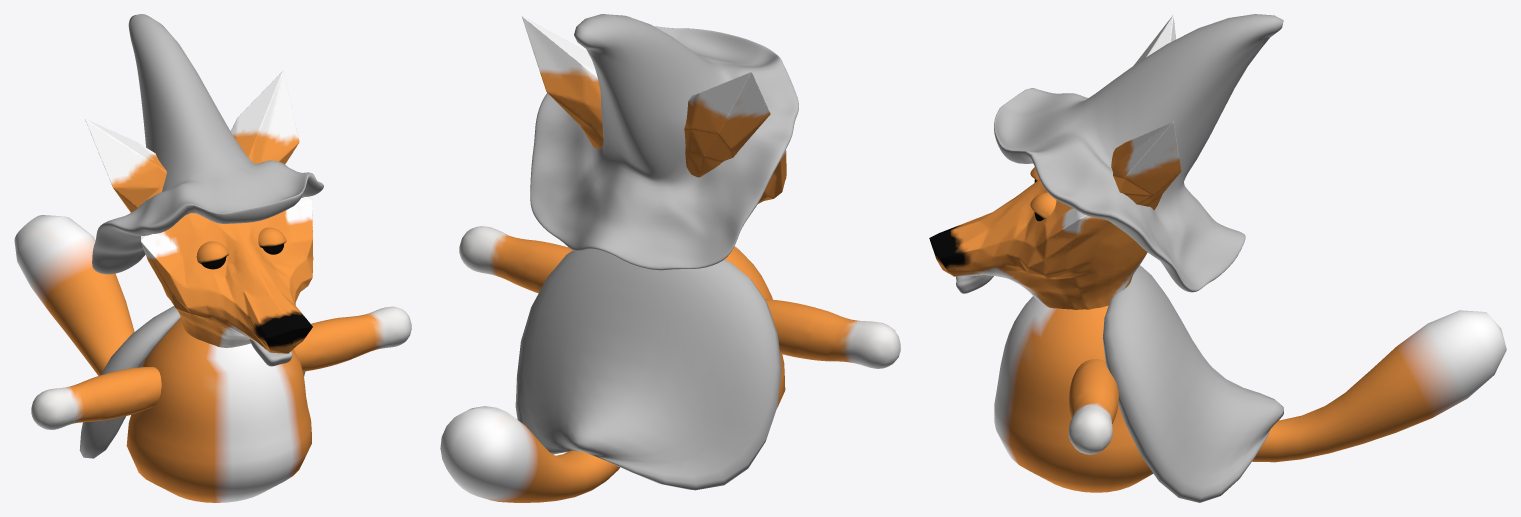
File: Gideon and Vivienne's Models.fbx
The picture shows the model from 3 angles, left to right: view 1: azimuth 30°, elevation 25°; view 2: azimuth 150°, elevation 25°; view 3: azimuth 270°, elevation 25°; orthographic projection. The views are drawn at different scales.
Parts seen in each view (by area): view 1: Sharp Fox Head, Fox Torso, PM3D_Sphere3D1_1, Tox Tail, Recovered_Tool, PM3D_Cube3D1, PM3D_Sphere3D1, PM3D_Sphere3D2, Lower Jaw; view 2: PM3D_Cube3D1, PM3D_Sphere3D1_1, Sharp Fox Head, Tox Tail, Recovered_Tool, Fox Torso; view 3: PM3D_Sphere3D1_1, PM3D_Cube3D1, Sharp Fox Head, Fox Torso, Tox Tail, Recovered_Tool.
Part boxes in pixels (x1,y1,x2,y2): Sharp Fox Head: (85,71,313,353); Fox Torso: (126,318,311,502); PM3D_Sphere3D1_1: (92,14,323,274); Tox Tail: (14,215,134,375); Recovered_Tool: (31,306,411,429); PM3D_Cube3D1: (79,306,305,458); PM3D_Sphere3D1: (196,241,228,269); PM3D_Sphere3D2: (258,227,286,254); Lower Jaw: (249,339,292,366); PM3D_Cube3D1: (515,249,781,490); PM3D_Sphere3D1_1: (530,14,798,270); Sharp Fox Head: (522,16,786,203); Tox Tail: (440,406,619,502); Recovered_Tool: (459,226,900,368); Fox Torso: (724,246,785,407); PM3D_Sphere3D1_1: (994,14,1283,292); PM3D_Cube3D1: (1102,265,1283,502); Sharp Fox Head: (929,15,1181,309); Fox Torso: (994,296,1153,492); Tox Tail: (1252,310,1506,462); Recovered_Tool: (1068,359,1118,454).
Bounding box in the file's own units: 475 × 505 × 573.
